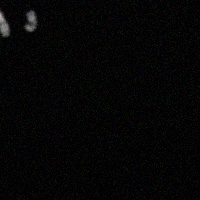chromosome: (0, 6, 10, 37), (24, 11, 36, 31)
